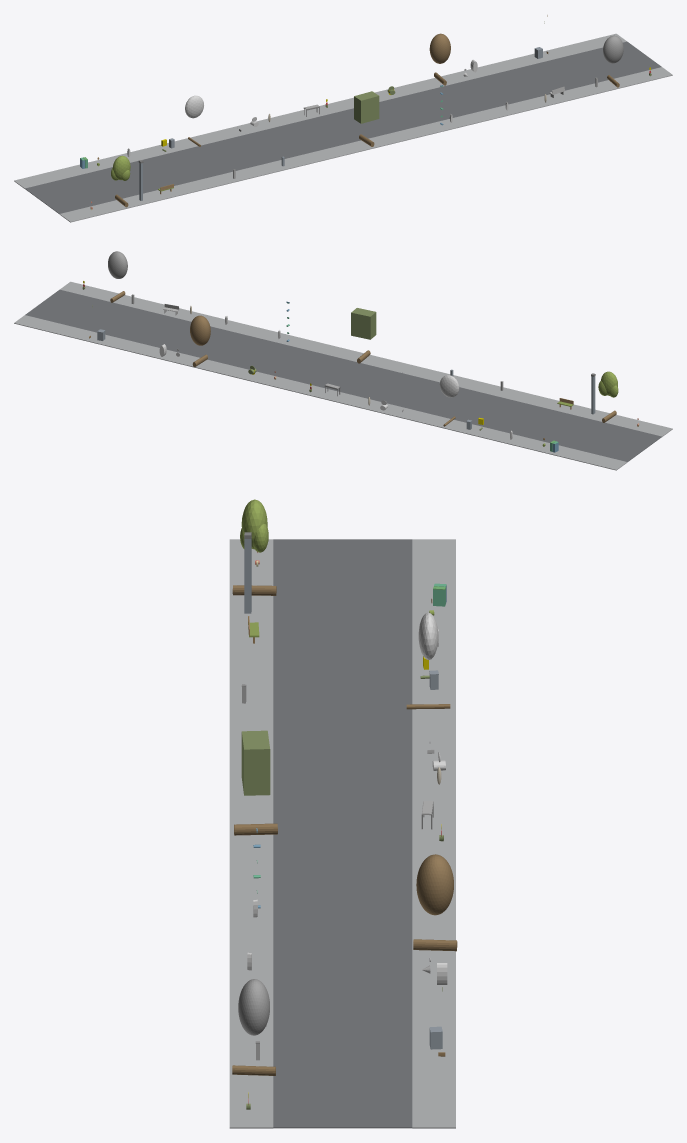
The picture shows the model from 3 angles, top to bottom: view 1: azimuth 30°, elevation 25°; view 2: azimuth 150°, elevation 25°; view 3: azimuth 270°, elevation 25°; orthographic projection. The views are drawn at different scales.
Parts seen in each view (by area): view 1: road_slab, sidewalk_left, sidewalk_right, inst_0014, inst_0015, inst_0016, inst_0012, inst_0013; view 2: road_slab, sidewalk_right, sidewalk_left, inst_0014, inst_0015, inst_0016, inst_0012, inst_0013; view 3: road_slab, sidewalk_right, sidewalk_left, inst_0014, inst_0015, inst_0016, inst_0012, inst_0013.
Boxes of the visible parts, bbox=[...] form: road_slab: bbox=[25, 41, 661, 213]; sidewalk_left: bbox=[59, 67, 672, 222]; sidewalk_right: bbox=[14, 33, 626, 188]; inst_0014: bbox=[354, 91, 379, 146]; inst_0015: bbox=[429, 33, 450, 85]; inst_0016: bbox=[603, 35, 623, 87]; inst_0012: bbox=[111, 155, 130, 207]; inst_0013: bbox=[185, 95, 203, 146]; road_slab: bbox=[25, 289, 661, 462]; sidewalk_right: bbox=[14, 315, 627, 470]; sidewalk_left: bbox=[60, 281, 672, 436]; inst_0014: bbox=[351, 308, 376, 363]; inst_0015: bbox=[190, 315, 210, 367]; inst_0016: bbox=[108, 251, 127, 302]; inst_0012: bbox=[598, 371, 618, 422]; inst_0013: bbox=[439, 375, 459, 426]; road_slab: bbox=[273, 539, 412, 1128]; sidewalk_right: bbox=[412, 539, 455, 1128]; sidewalk_left: bbox=[229, 539, 273, 1128]; inst_0014: bbox=[234, 730, 277, 835]; inst_0015: bbox=[413, 854, 457, 951]; inst_0016: bbox=[232, 979, 275, 1075]; inst_0012: bbox=[232, 499, 276, 595]; inst_0013: bbox=[406, 612, 450, 709].
Size of the model in its own units: 80 by 6.08 by 13.08.
